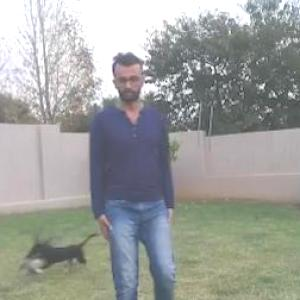follow: (92, 52, 175, 299)
